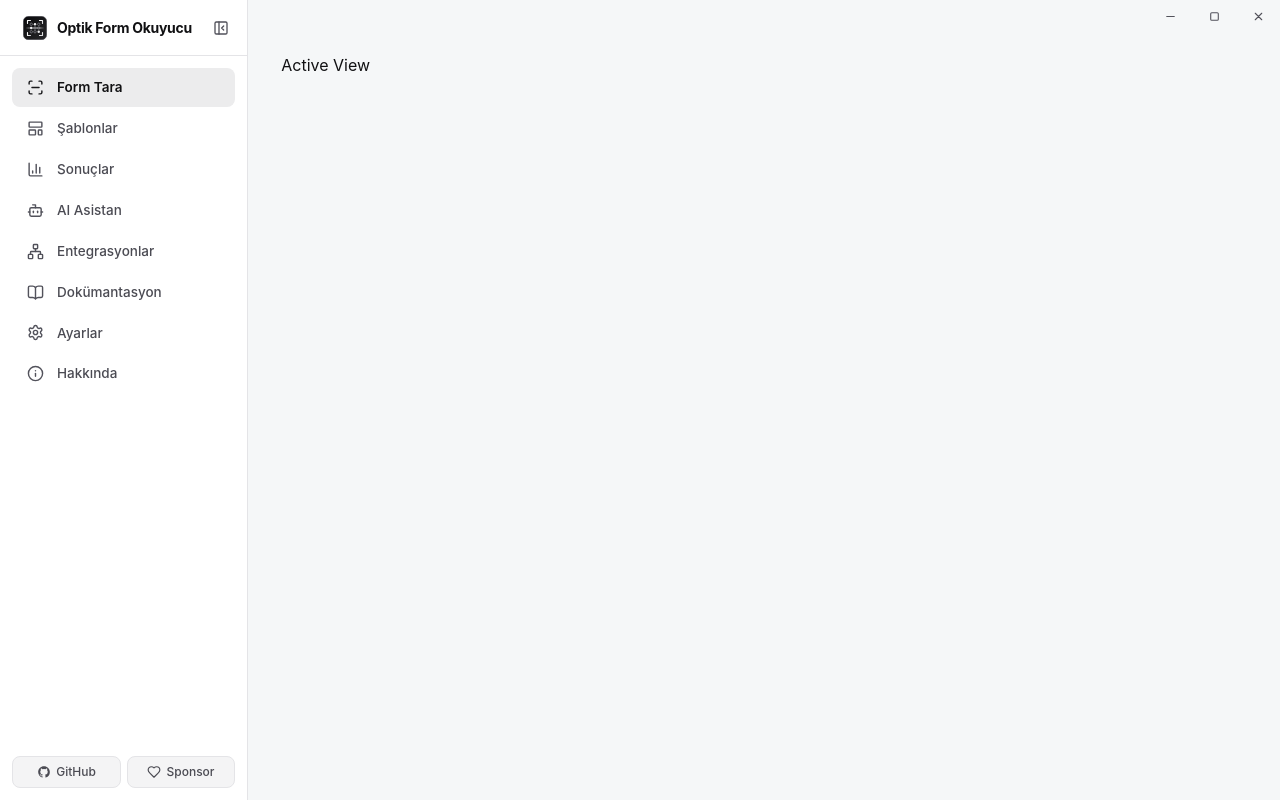
Test: TestSprite Master Suite - 110 Ruthless End-User Scenarios (TS-001 .. TS-110) › Category B (TS-009..TS-016): Desktop Shell, 1st Sidebar (8 Top-Level Items), Collapse, GitHub/Sponsor Parity & Zero Long-Dash
Earlier steps of the test are not shown.
Later steps or results of the test are not shown.
Expected: the icon with class "desktop-sponsor-icon" is shown, [147,765,161,779]
Click the button "Sponsor": (181, 772) [126,756,235,788]
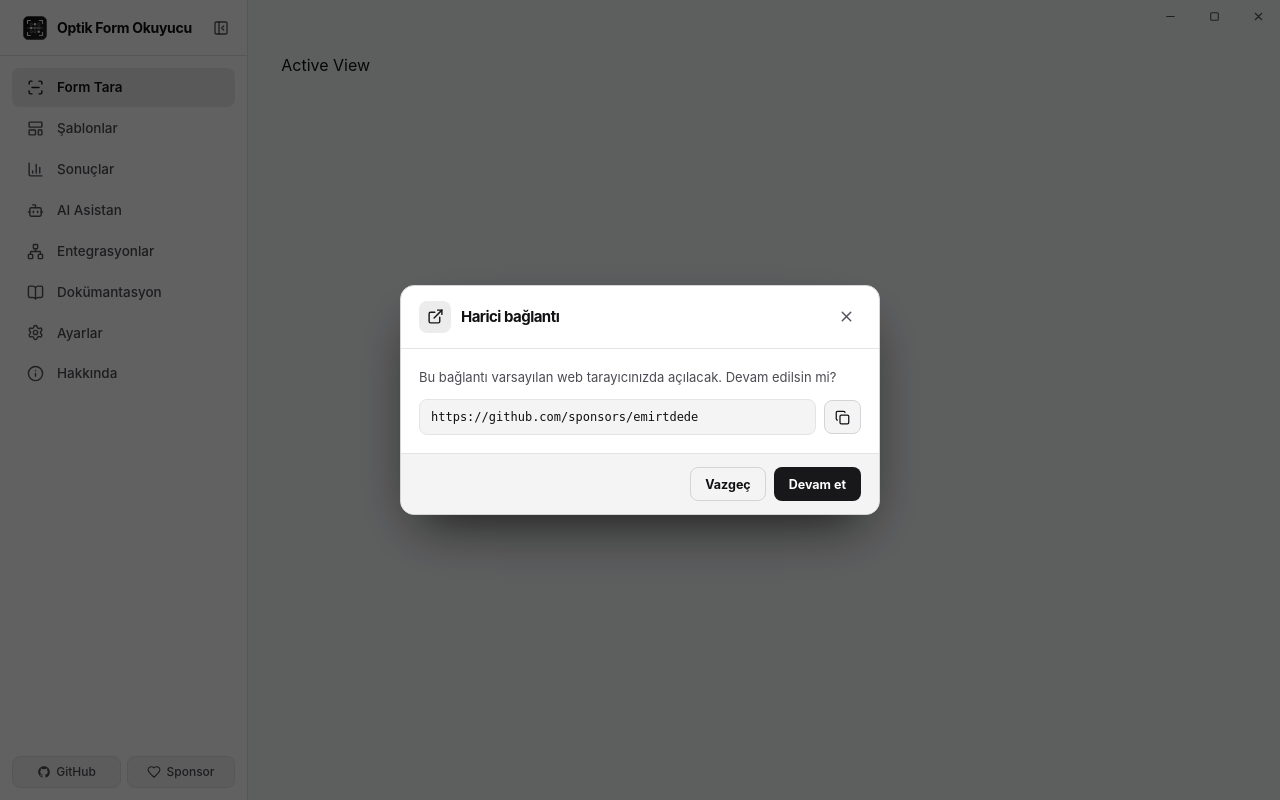
Result: the text "https://github.com/sponsors/emirtdede" is shown at [419,399,816,435]
